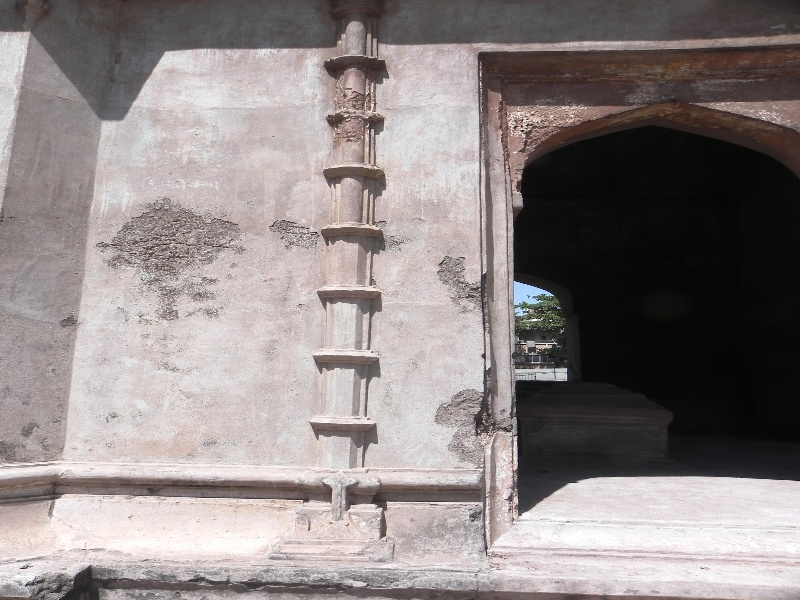Spalling: (116, 208, 231, 308), (434, 366, 503, 467), (437, 253, 490, 328), (326, 82, 382, 148), (257, 201, 325, 253)
